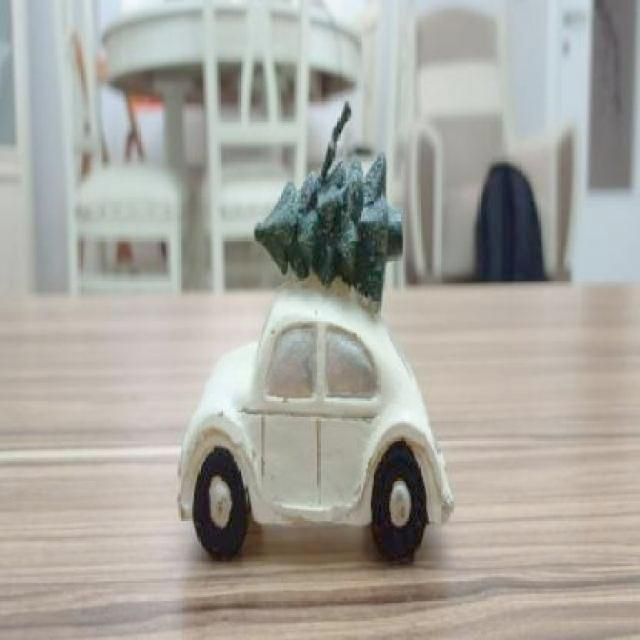car: (158, 288, 451, 554)
